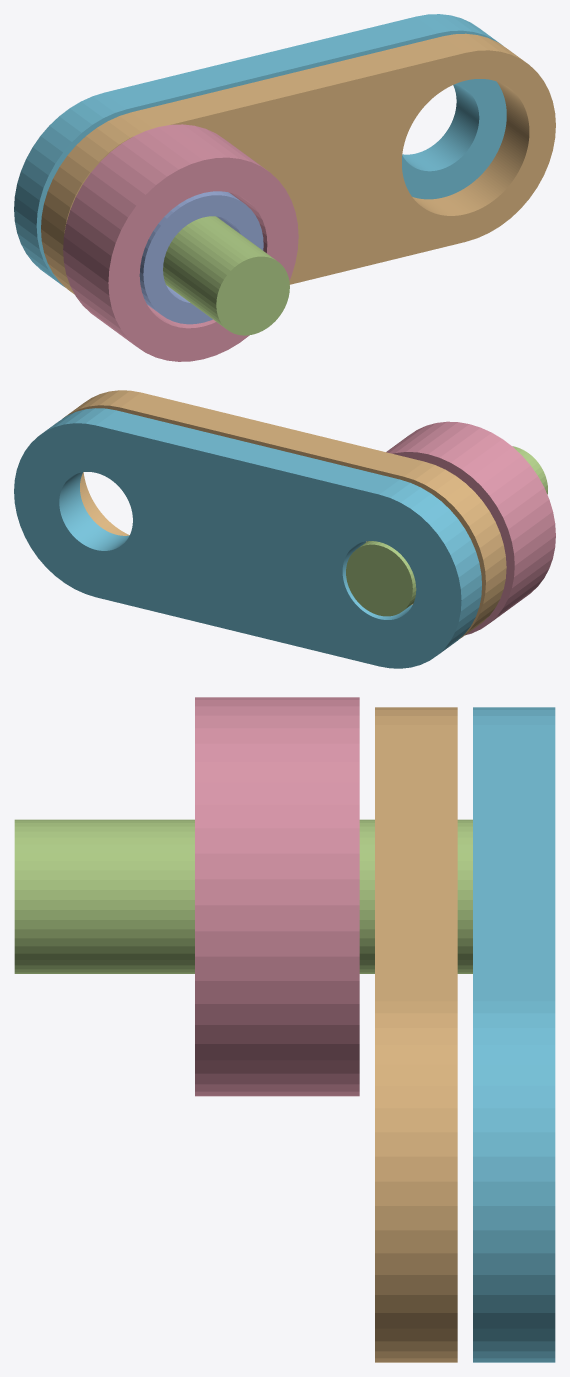
File: roller_chain_link_demo.glb
3 views of the same model, one above another, from view 1: azimuth 30°, elevation 25°; view 2: azimuth 150°, elevation 25°; view 3: azimuth 270°, elevation 25° (orthographic). The views are drawn at different scales.
Visible parts, largest first — view 1: inner_plate, roller, outer_plate, pin, bushing; view 2: outer_plate, inner_plate, roller, pin; view 3: roller, outer_plate, inner_plate, pin.
Part boxes in pixels (left/top/right/bottom): inner_plate: left=41, top=33, right=555, bottom=294; roller: left=63, top=124, right=298, bottom=361; outer_plate: left=14, top=14, right=506, bottom=286; pin: left=163, top=216, right=289, bottom=335; bushing: left=139, top=191, right=263, bottom=324; outer_plate: left=14, top=408, right=481, bottom=668; inner_plate: left=64, top=390, right=506, bottom=638; roller: left=386, top=421, right=555, bottom=635; pin: left=346, top=446, right=547, bottom=616; roller: left=195, top=697, right=359, bottom=1096; outer_plate: left=473, top=707, right=555, bottom=1362; inner_plate: left=375, top=707, right=457, bottom=1362; pin: left=14, top=819, right=472, bottom=973.
Size of the model in its own units: 20.26 by 7.75 by 10.5.
